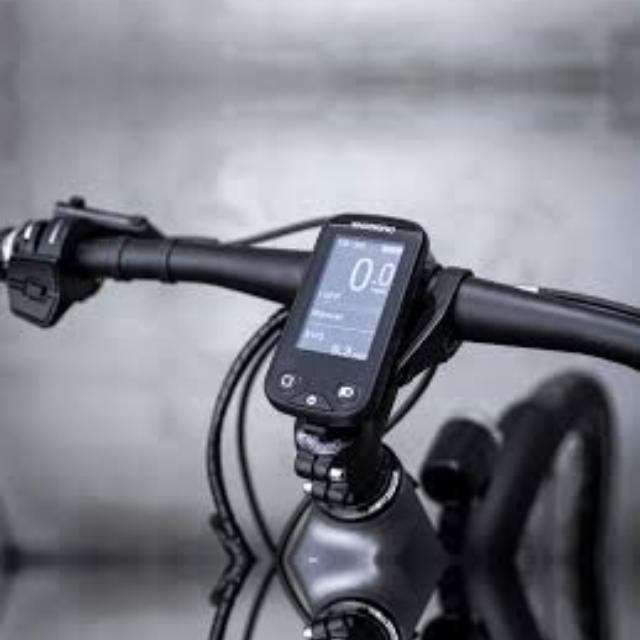obstacle: (7, 145, 636, 560), (6, 559, 635, 640), (6, 0, 635, 15)
